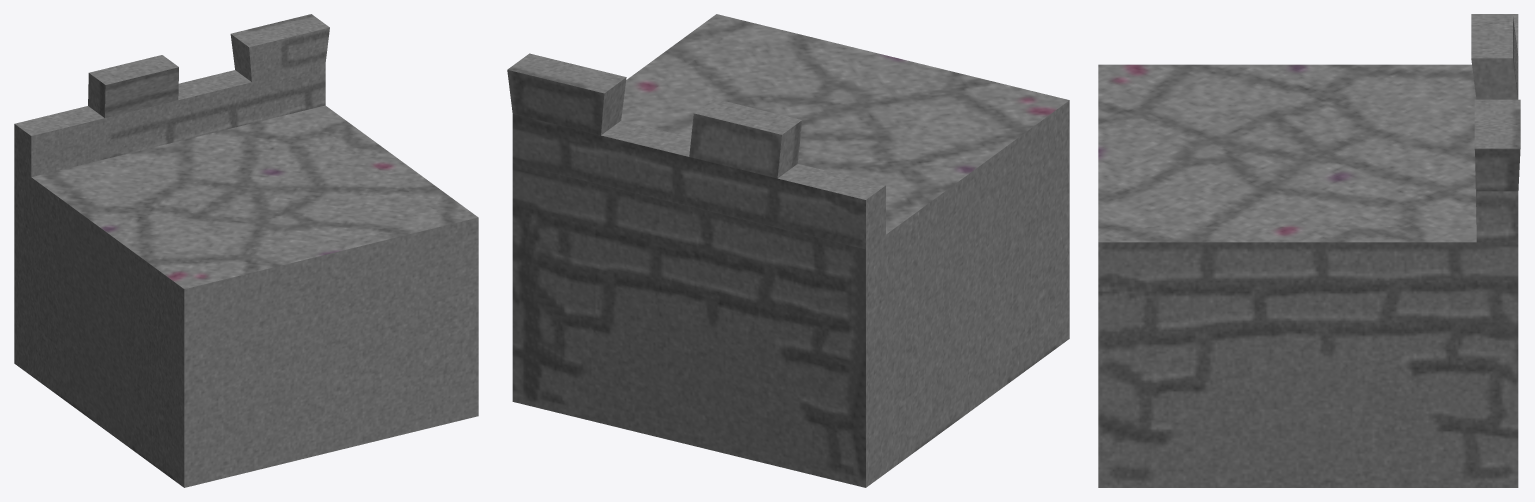
File: hell_bridge_side.fbx
3 views of the same model, side by side, from view 1: azimuth 30°, elevation 25°; view 2: azimuth 150°, elevation 25°; view 3: azimuth 270°, elevation 25° (orthographic). The views are drawn at different scales.
Visible parts, largest first — view 1: hell_bridge_LOD0; view 2: hell_bridge_LOD0; view 3: hell_bridge_LOD0.
Part boxes in pixels (<box>): hell_bridge_LOD0: <box>14,14,478,487</box>; hell_bridge_LOD0: <box>507,14,1069,487</box>; hell_bridge_LOD0: <box>1098,14,1520,487</box>.
Size of what is drawn, in the model's own units: 2.03 by 2.01 by 1.79.
